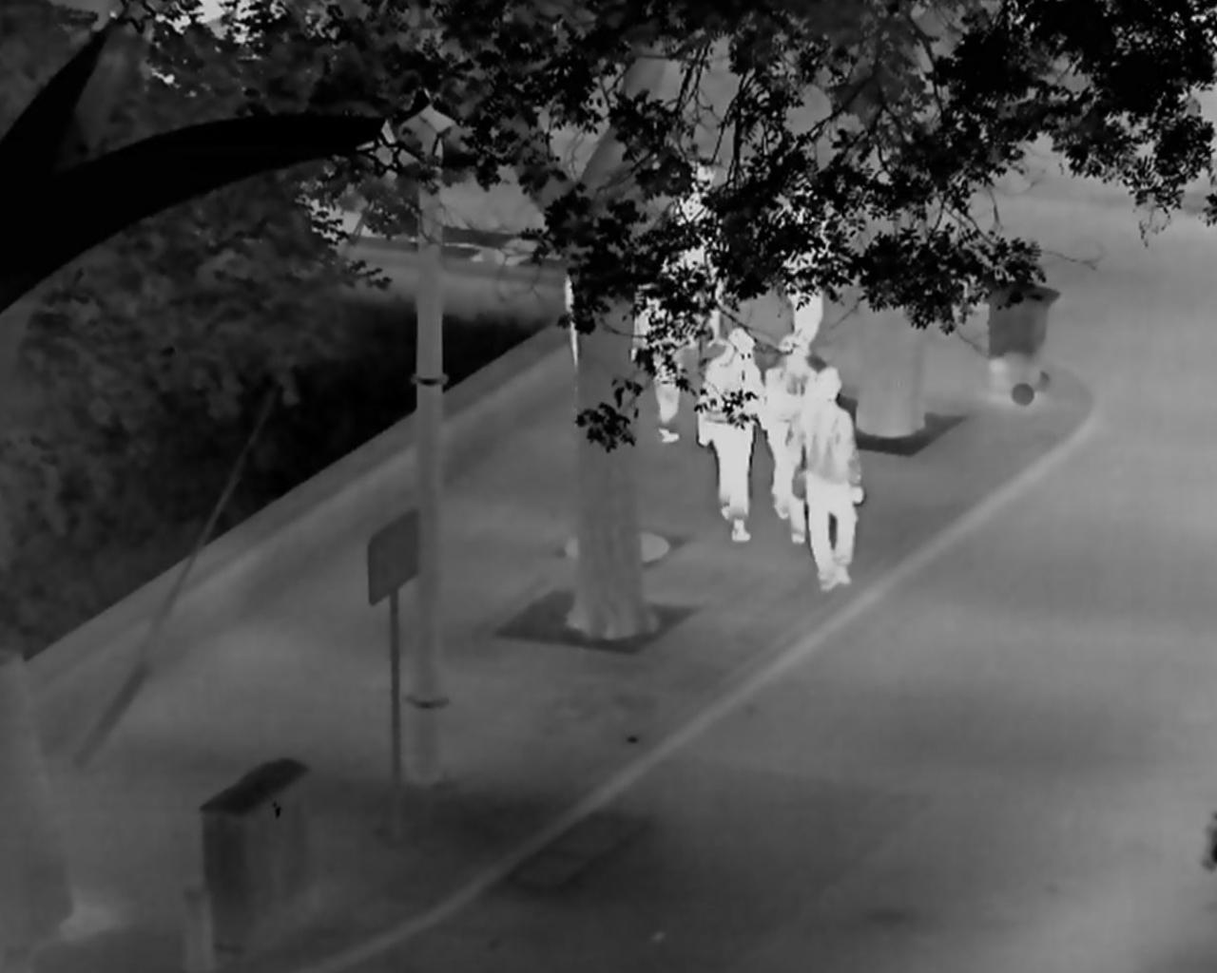person: (786, 366, 863, 590), (696, 326, 764, 541), (770, 172, 841, 352), (761, 332, 818, 544), (669, 162, 727, 341), (632, 274, 683, 443)
